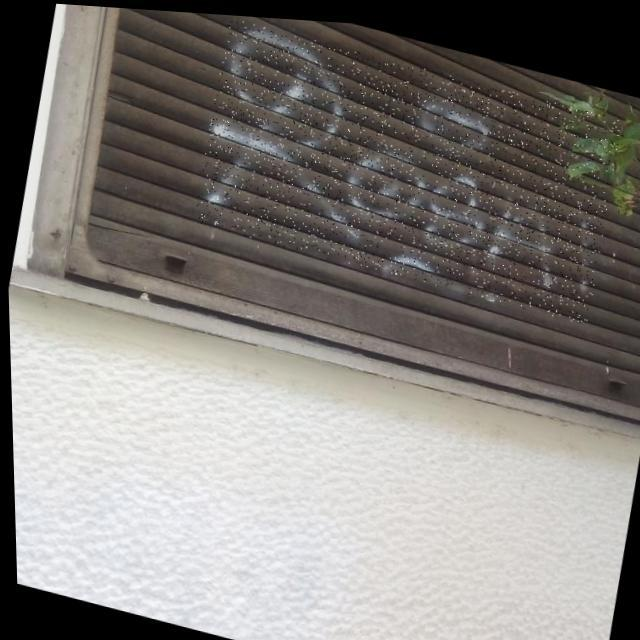-: (188, 12, 626, 319)
